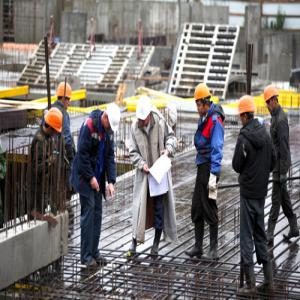white: (101, 101, 122, 135), (136, 96, 152, 129)
yellow: (42, 108, 64, 140), (194, 82, 212, 117), (238, 95, 257, 127), (56, 82, 73, 113), (264, 86, 280, 115)
